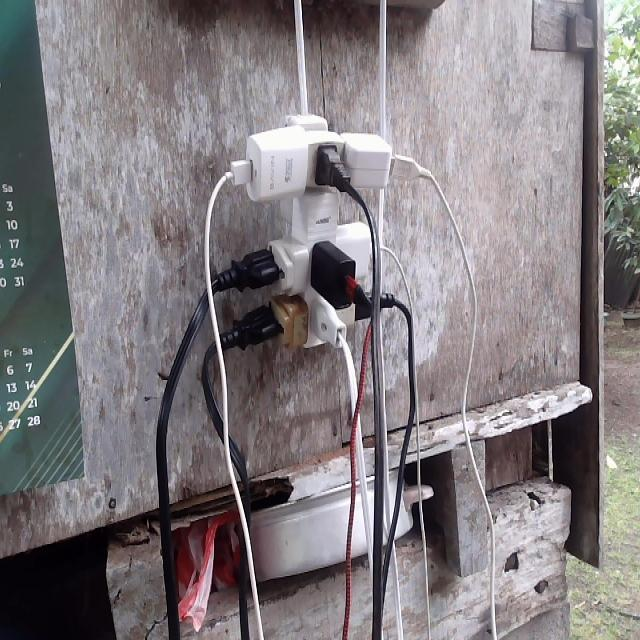-: (220, 113, 400, 355)
